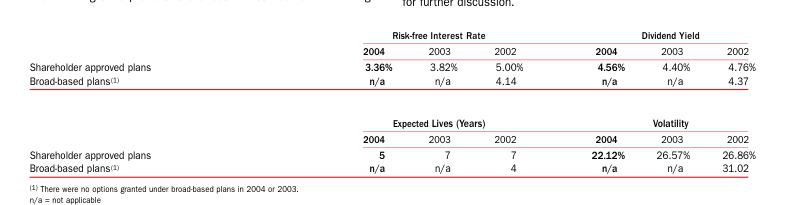table: (28, 29, 754, 174)
table column: (28, 29, 256, 174), (256, 29, 409, 174), (556, 29, 639, 174), (475, 29, 556, 174), (409, 29, 475, 174), (639, 29, 705, 174), (705, 29, 754, 174)
table column header: (28, 29, 754, 58)
table row: (28, 101, 754, 130), (28, 73, 754, 101), (28, 42, 754, 58), (28, 130, 754, 146), (28, 58, 754, 73), (28, 146, 754, 161), (28, 29, 754, 42), (28, 161, 754, 174)
table spanning cell: (28, 73, 256, 146), (256, 101, 556, 130), (556, 101, 754, 130), (256, 29, 556, 42), (556, 29, 754, 42)
